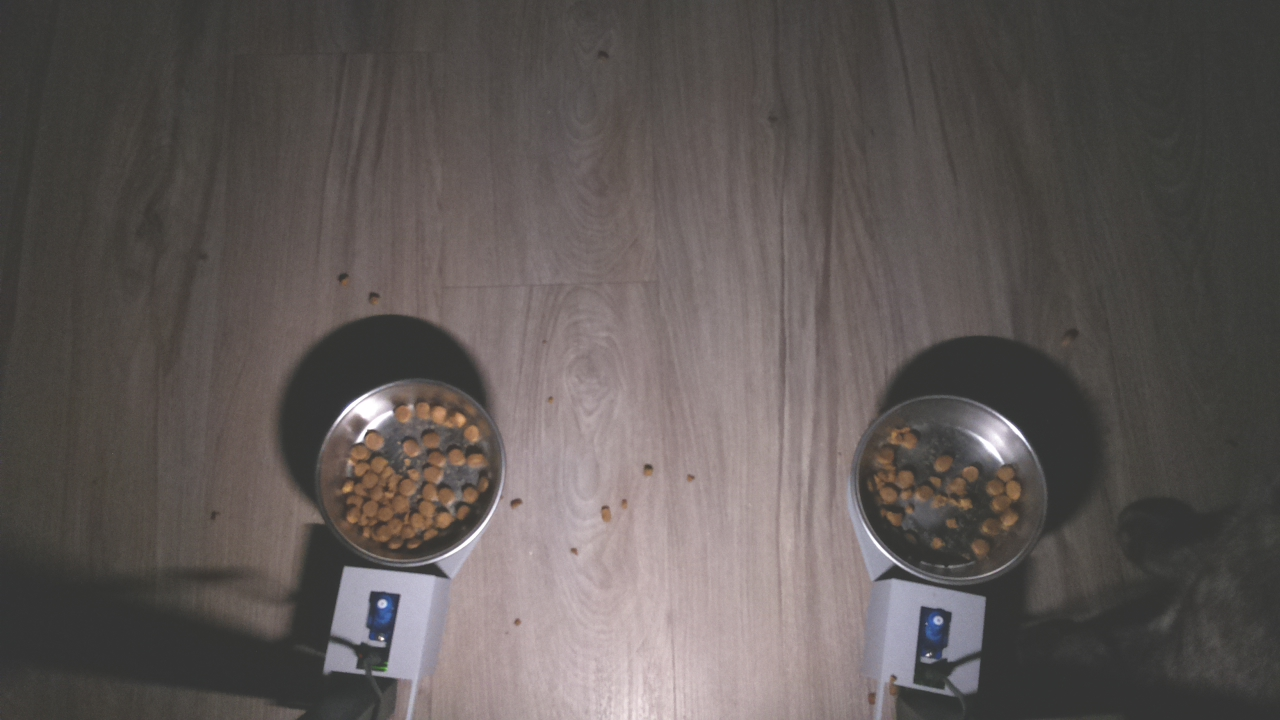open_bowl: (311, 372, 507, 575), (850, 396, 1054, 589)
